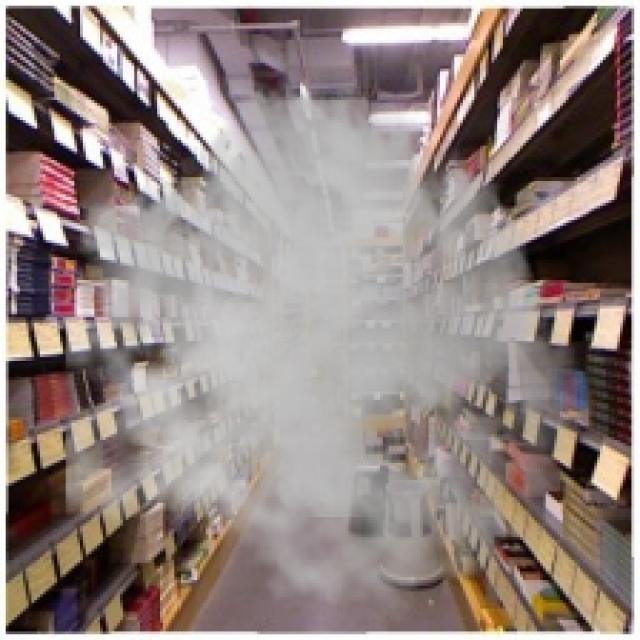smoke: (65, 69, 586, 620)
